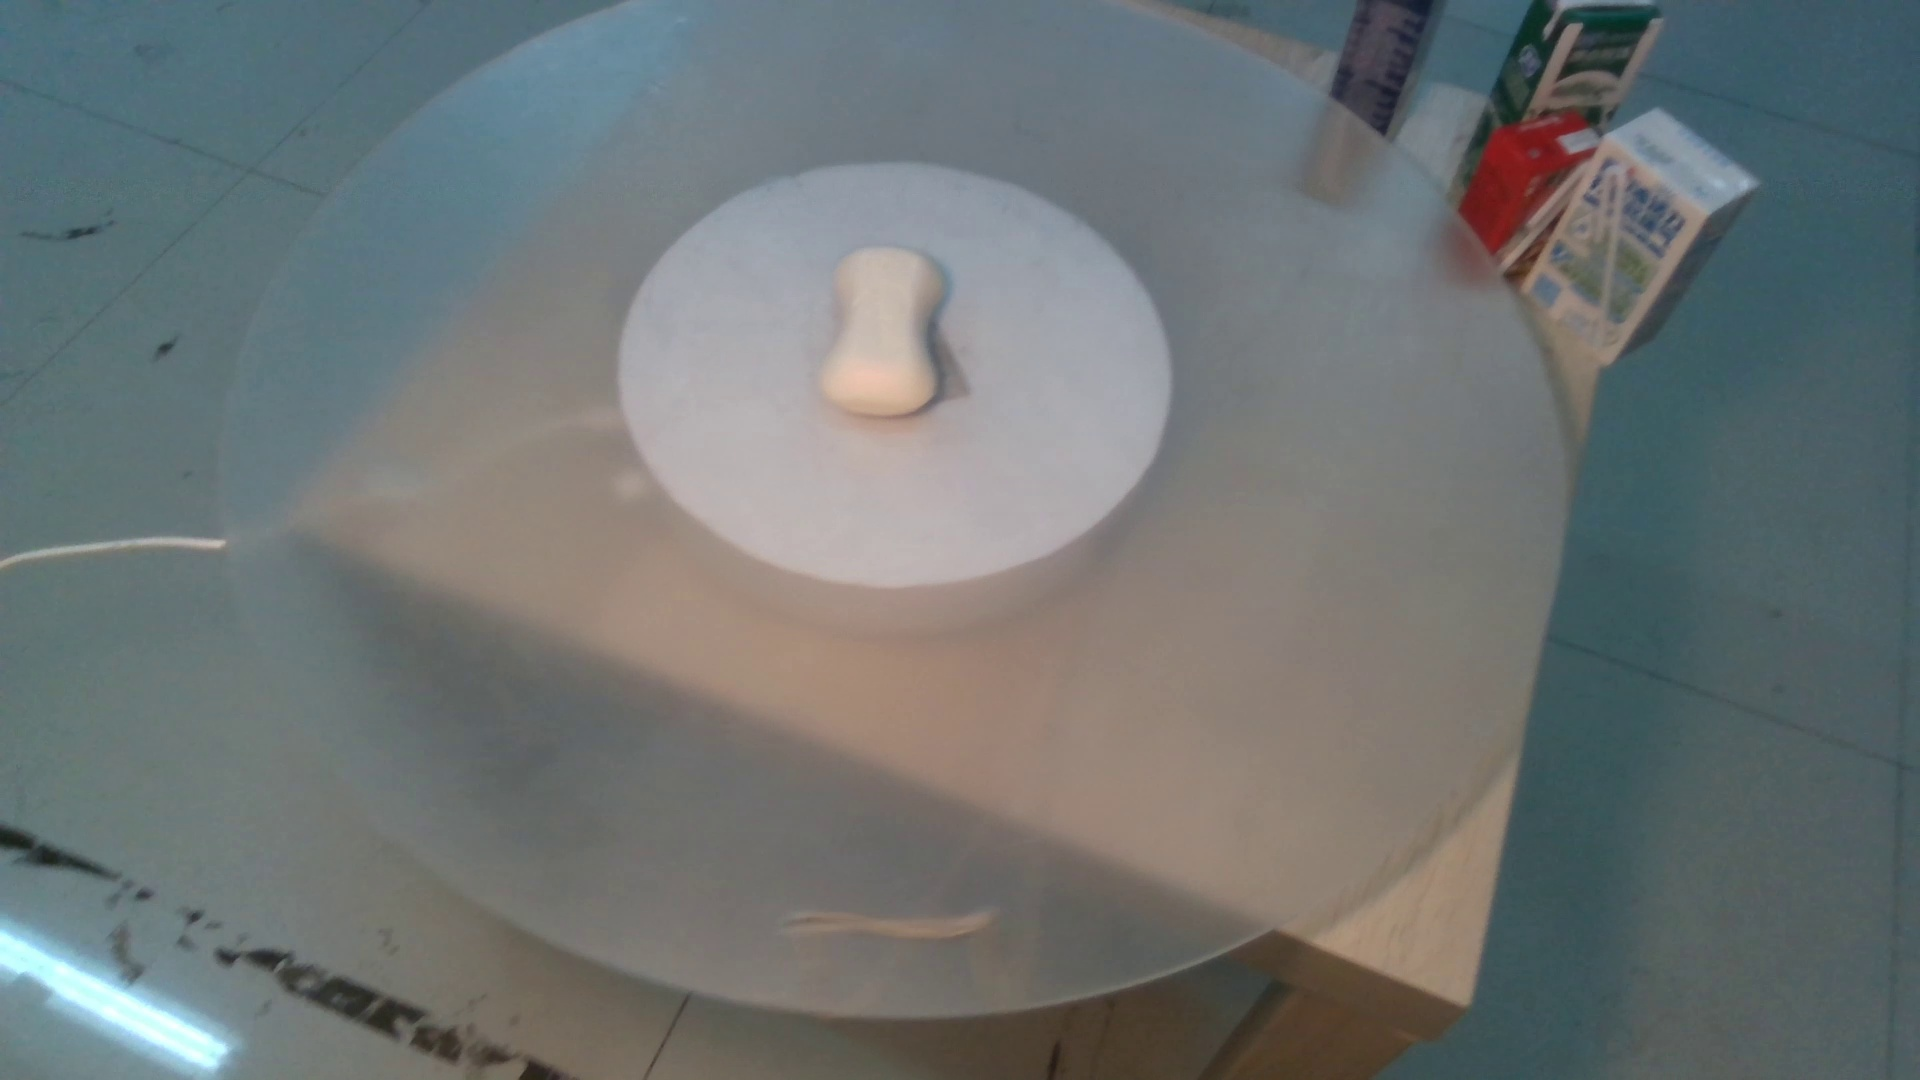CA003_1: (802, 222, 986, 443)
